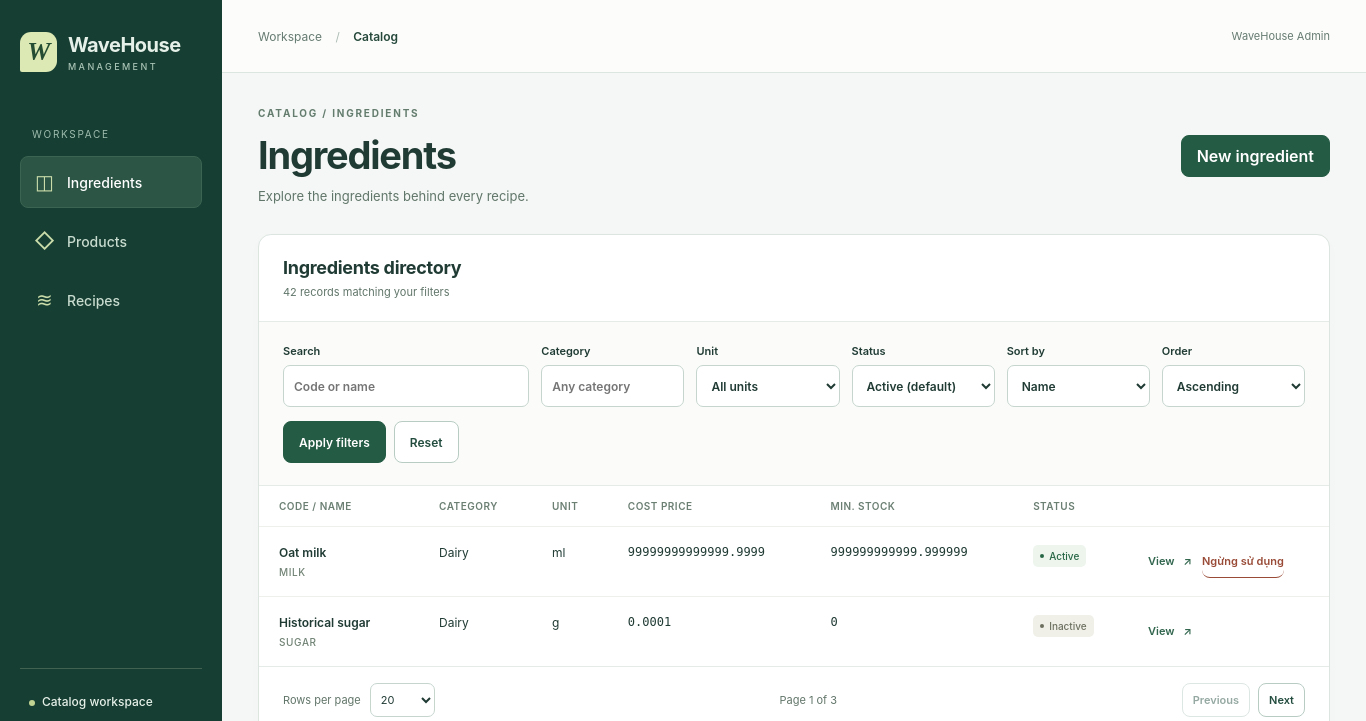
Scenario: catalog navigation and records › preserves server Recipe row and ingredient ordering instead of sorting names or versions
Click the button "≋ Recipes".
click(111, 300)  # box left=20, top=274, right=202, bottom=326
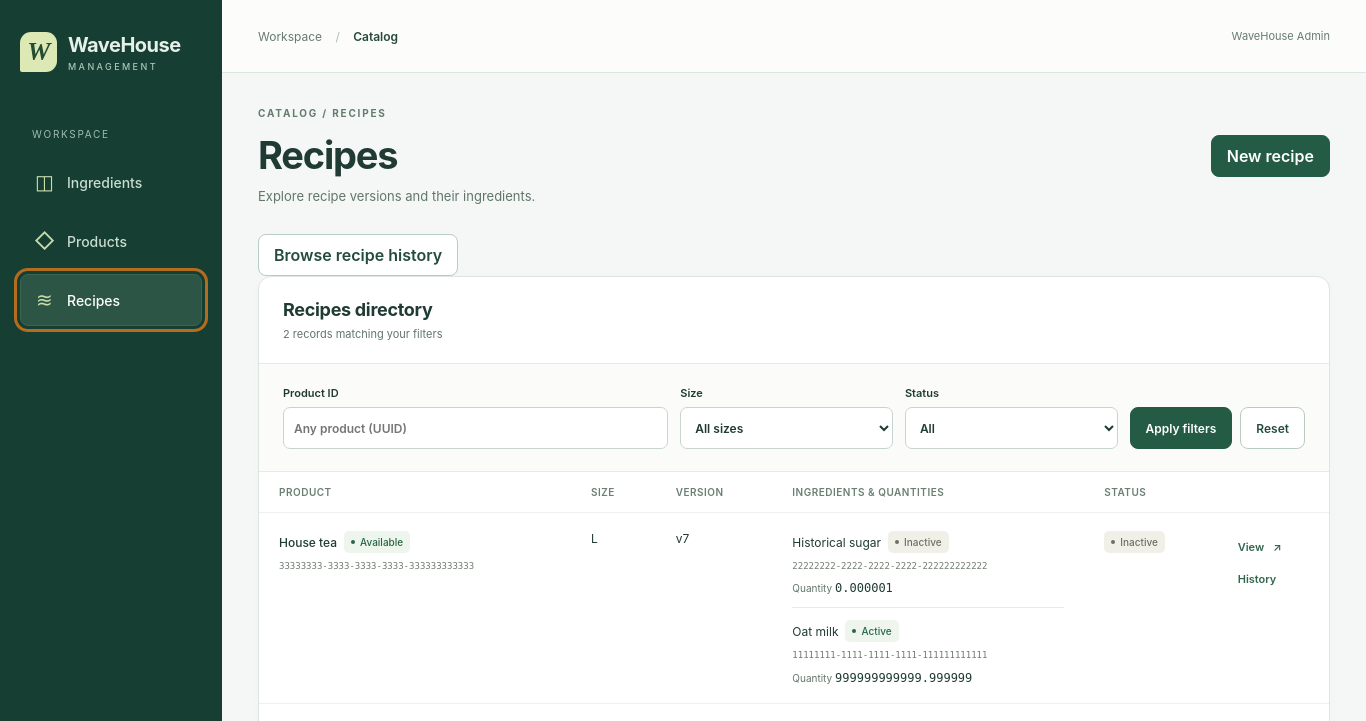
Check: the text "v7" is shown, box left=656, top=513, right=772, bottom=703
Check: the 1st list item shows "Historical sugar", box left=792, top=534, right=881, bottom=550
